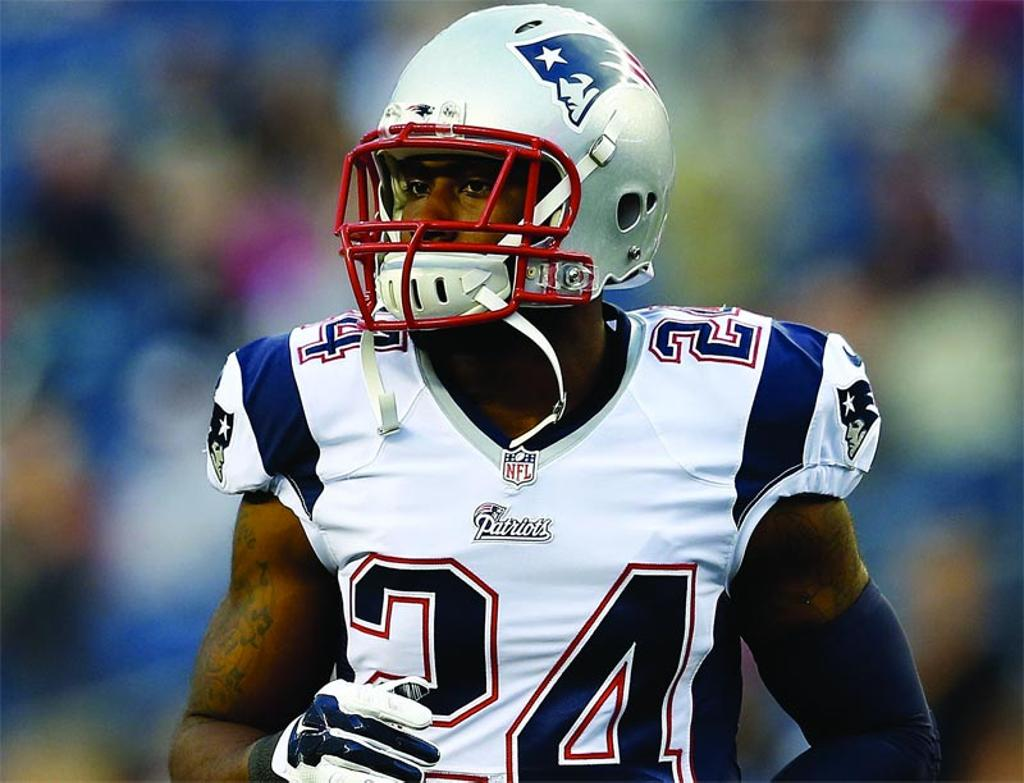face: (392, 122, 546, 324)
